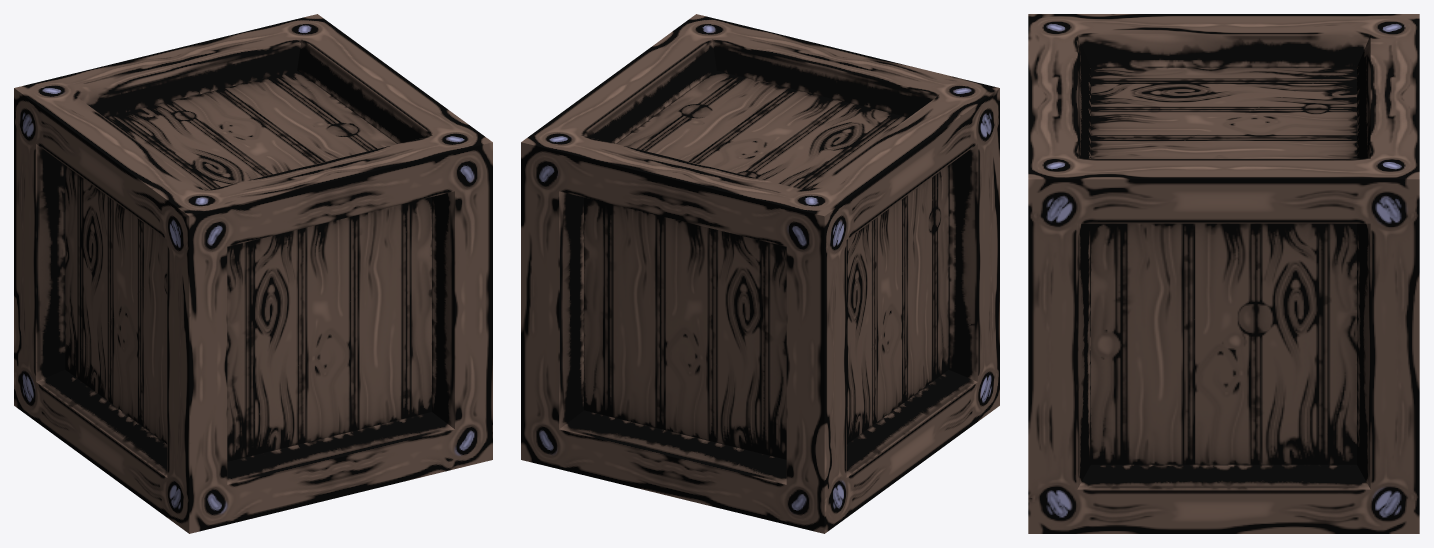
Rendered from Crate.fbx.
3 views of the same model, side by side, from view 1: azimuth 30°, elevation 25°; view 2: azimuth 150°, elevation 25°; view 3: azimuth 270°, elevation 25° (orthographic). The views are drawn at different scales.
Visible parts, largest first — view 1: crate; view 2: crate; view 3: crate.
Part boxes in pixels (x1,y1,x2,y2): crate: [14, 14, 492, 533]; crate: [521, 14, 999, 533]; crate: [1028, 14, 1419, 533].
Bounding box in the file's own units: 200 × 200 × 200.
